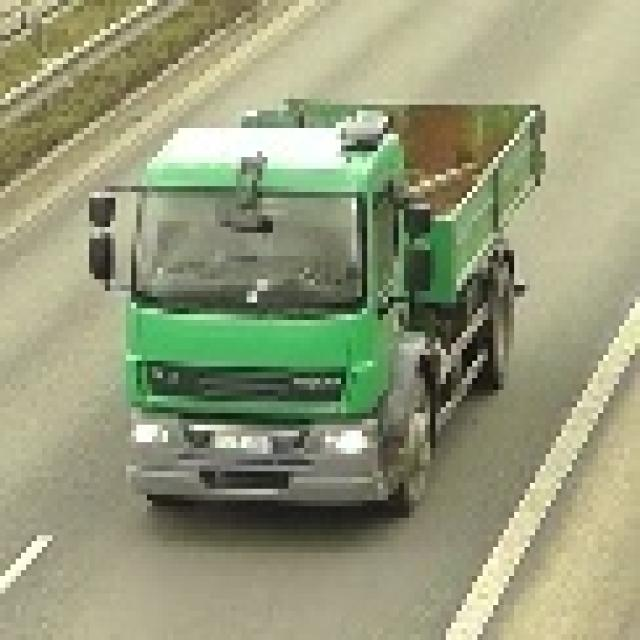truck: (84, 81, 540, 512)
